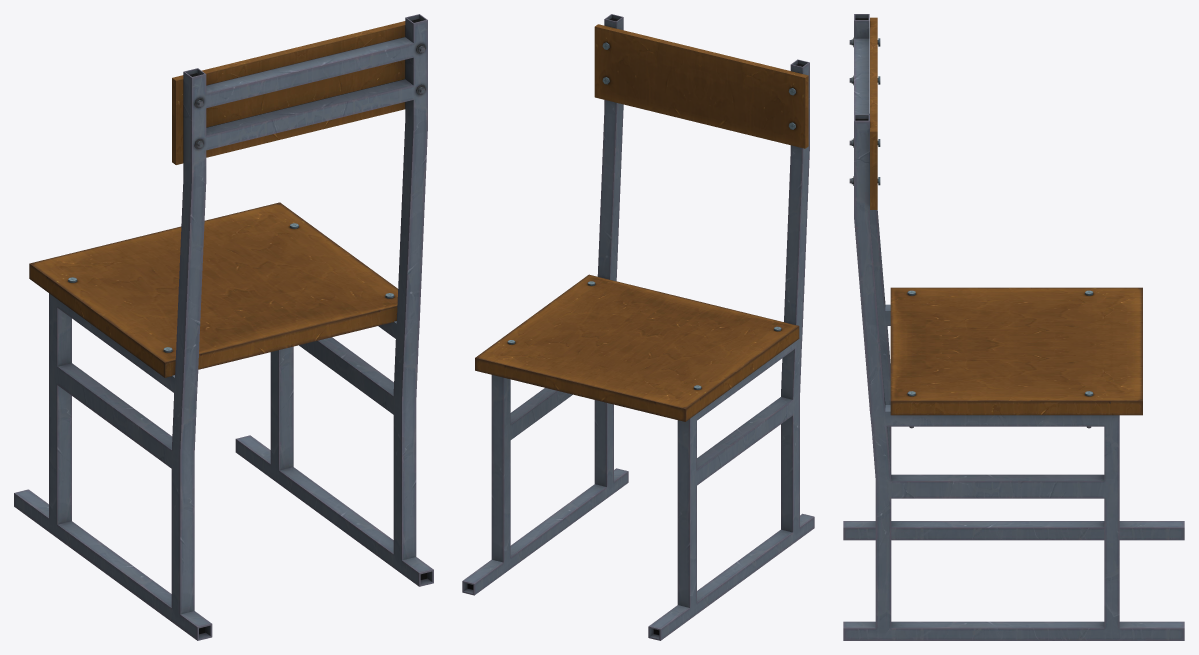
File: Teachers Chair.obj
The picture shows the model from 3 angles, left to right: view 1: azimuth 30°, elevation 25°; view 2: azimuth 150°, elevation 25°; view 3: azimuth 270°, elevation 25°; orthographic projection. The views are drawn at different scales.
Visible parts, largest first — view 1: Teachers_Chair; view 2: Teachers_Chair; view 3: Teachers_Chair.
Boxes of the visible parts, x1,y1,x2,y2 form: Teachers_Chair: (14, 14, 433, 640); Teachers_Chair: (462, 14, 814, 640); Teachers_Chair: (843, 14, 1184, 640).
Bounding box in the file's own units: 2.49 × 5.3 × 3.15.
